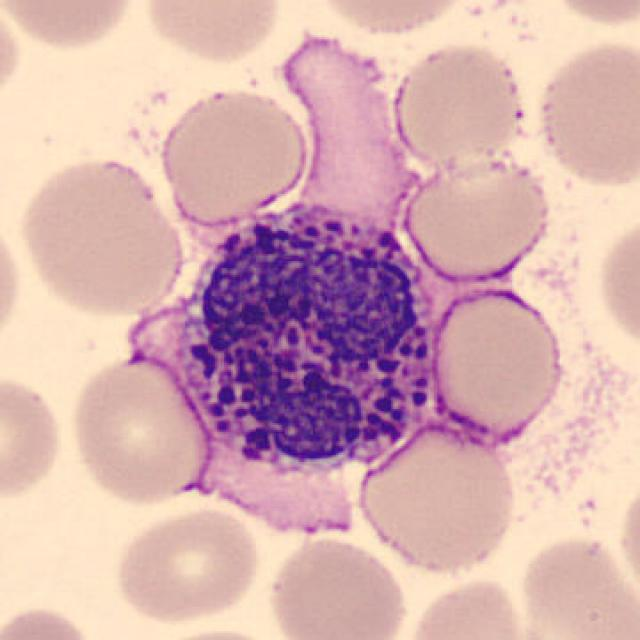Basophil: (105, 188, 459, 538)
RBC: (14, 152, 190, 319), (352, 418, 521, 580), (427, 282, 567, 451), (64, 352, 213, 510), (155, 83, 313, 227), (396, 152, 554, 286), (110, 502, 263, 628), (388, 37, 530, 169), (532, 36, 638, 190), (263, 532, 413, 640), (513, 530, 638, 640), (138, 0, 284, 67), (0, 367, 68, 508), (404, 573, 532, 640), (0, 0, 139, 53), (594, 210, 640, 356), (309, 0, 473, 39), (0, 208, 27, 358), (0, 601, 100, 640), (615, 473, 640, 601), (542, 0, 640, 30), (0, 2, 25, 111), (140, 624, 294, 640)
